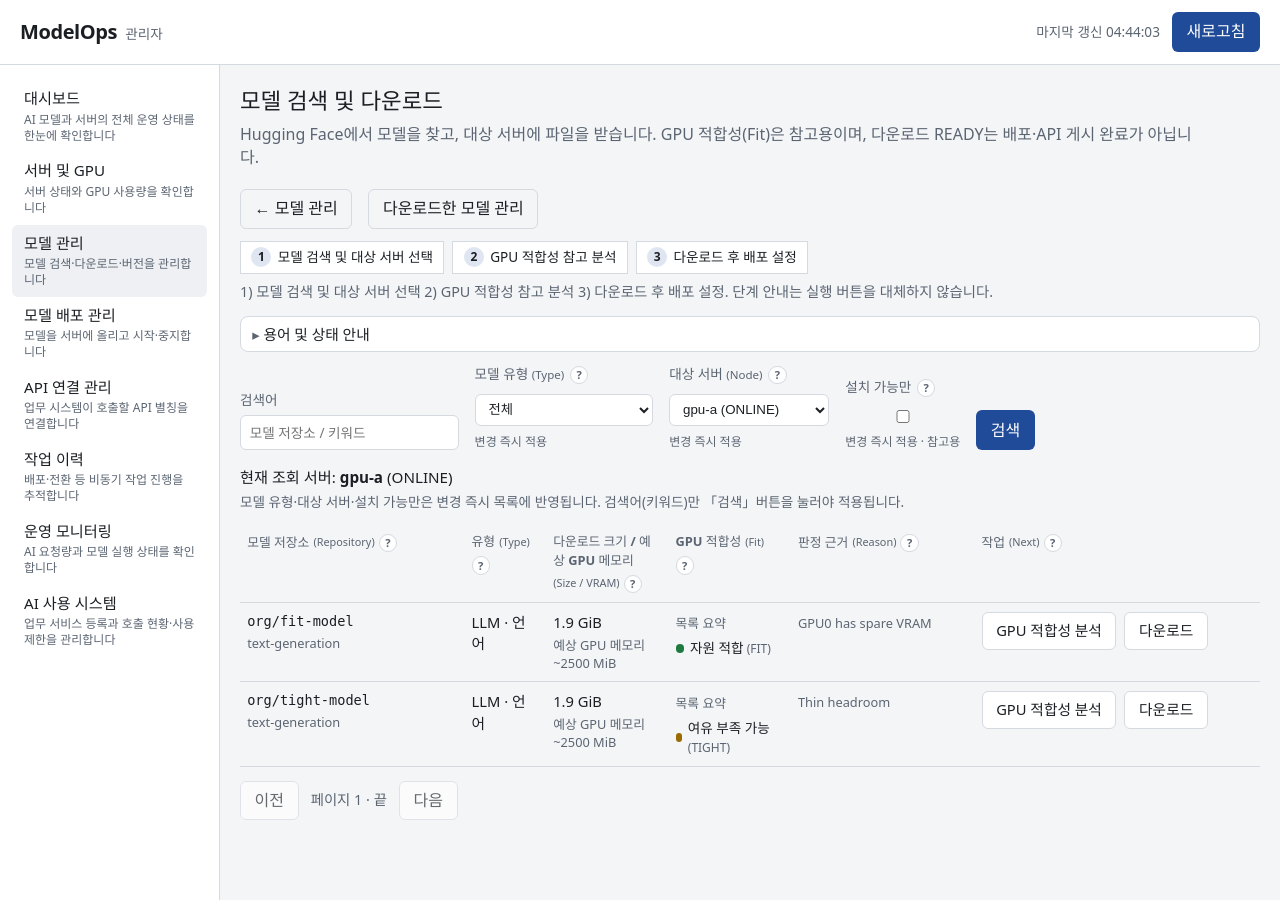
Test: ModelCatalogPage › renders catalog rows, fit badges, enabled Download when node selected
The width and height of the screenshot is (1280, 900).
expect the text "org/fit-model" is shown: met, box [247,613,354,629]
expect the text "org/tight-model" is shown: met, box [247,692,370,708]
Click the heading "용어 및 상태 안내": [317, 334] box [263,324,370,344]
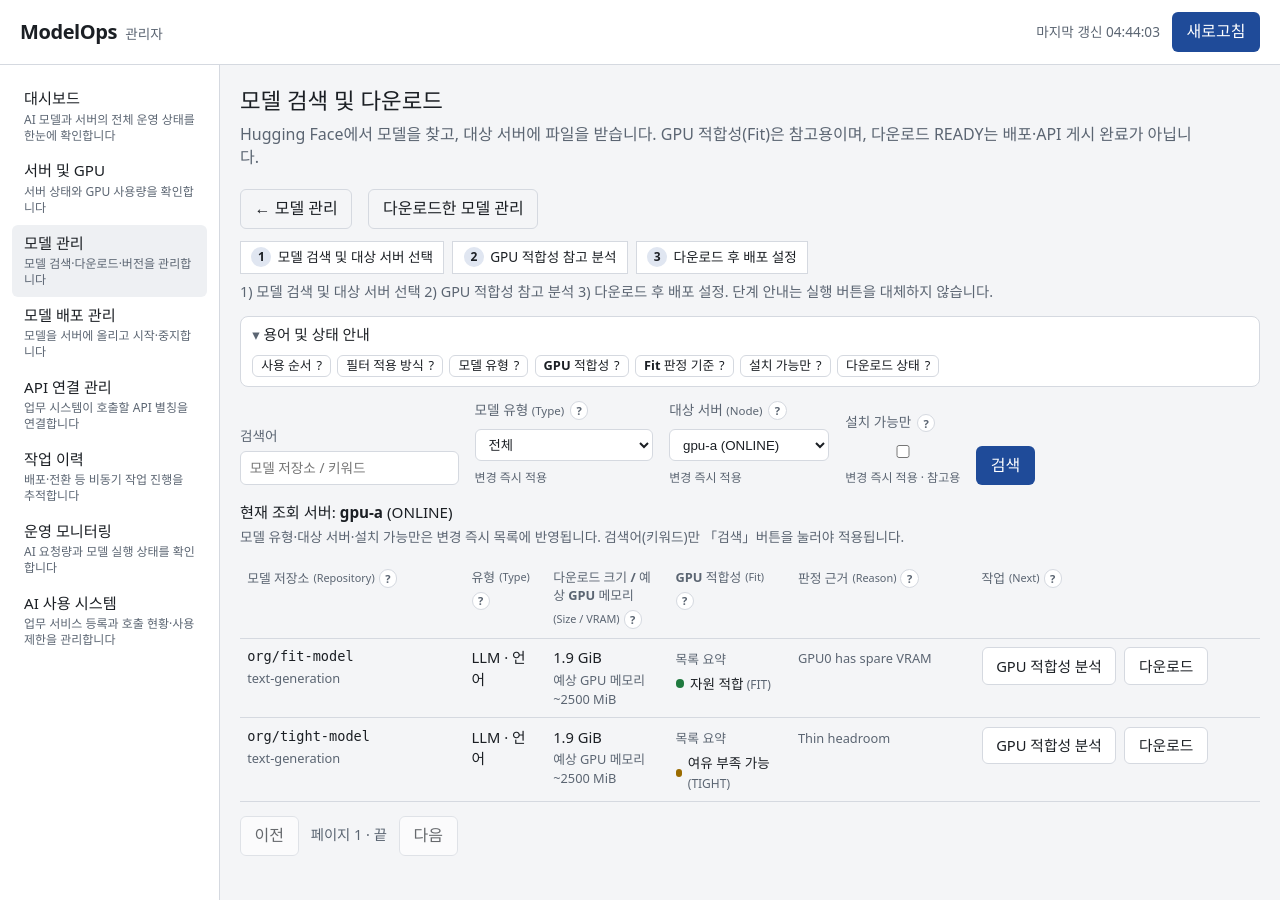
expect the text "Fit 판정 기준" is shown: met, box [644,359,714,372]
expect the text "GPU 적합성" next to "Fit 판정 기준" is shown: met, box [544,356,609,374]
expect the text "다운로드 상태" is shown: met, box [846,359,920,372]
